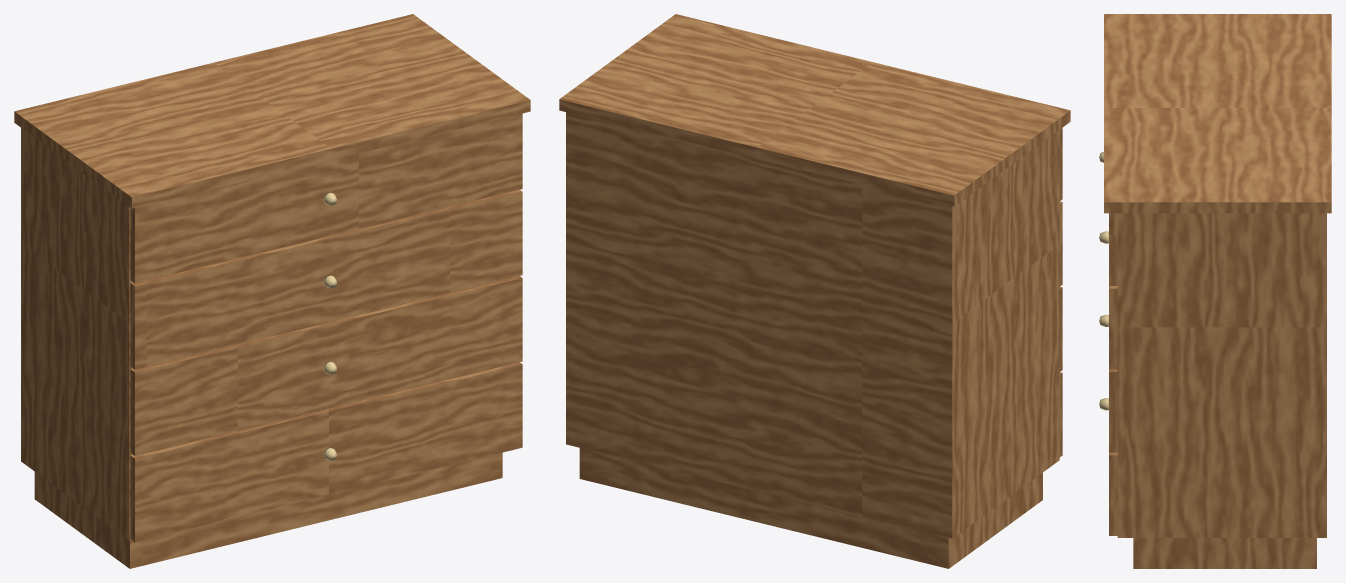
3 views of the same model, side by side, from view 1: azimuth 30°, elevation 25°; view 2: azimuth 150°, elevation 25°; view 3: azimuth 270°, elevation 25° (orthographic). The views are drawn at different scales.
Parts seen in each view (by area): view 1: Chest of drawers; view 2: Chest of drawers; view 3: Chest of drawers.
Boxes of the visible parts, bbox=[...] form: Chest of drawers: bbox=[14, 14, 530, 568]; Chest of drawers: bbox=[559, 14, 1070, 568]; Chest of drawers: bbox=[1099, 14, 1331, 568].
Bounding box in the file's own units: 0.92 × 0.85 × 0.48.
2 materials, 1 textured.
